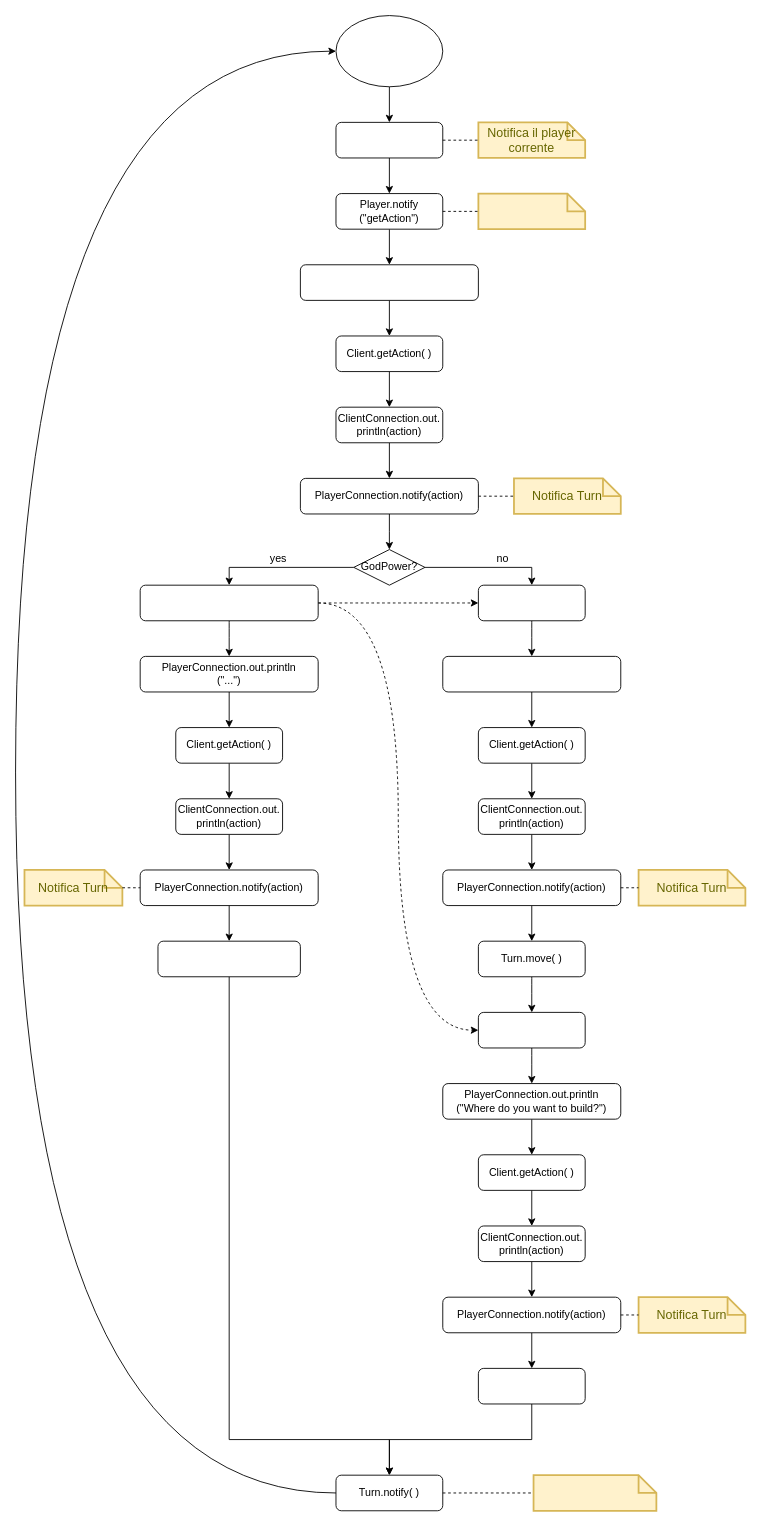
Image size: 762x1527. Some labels were removed from this diagram. Here are the shapes that lost their labels. From the top down, the centre of each, then its label:
point 389,51: Start of the turn
point 389,139: Game.notify( )
point 531,211: Notifica il socket
point 388,282: PlayerConnection.out.println ("Do you want to use God power?")
point 228,602: Turn.getGodAction( )
point 531,602: Turn.getMove( )
point 531,673: PlayerConnection.out.println ("Where do you want to move?")
point 228,958: Turn.godPower.execute()
point 531,1029: Turn.getBuild( )
point 531,1385: Turn.build( )
point 594,1492: Notifica al Game la fine del turno
